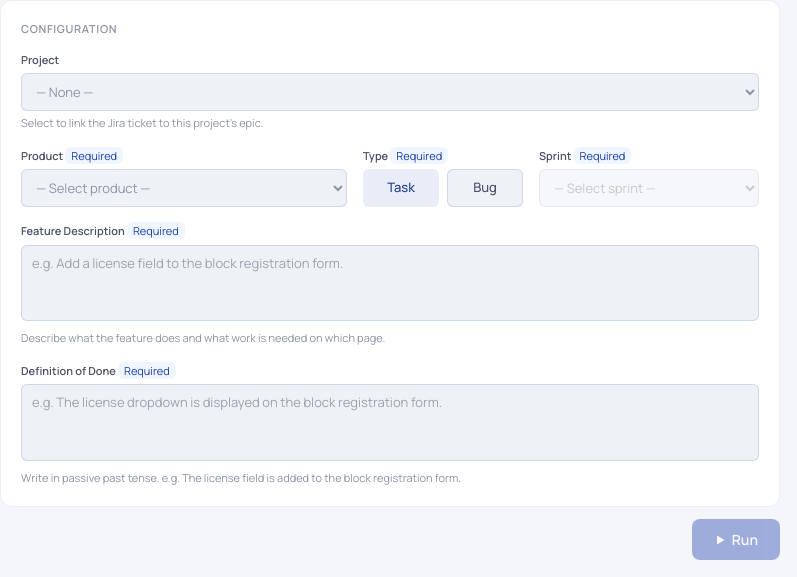
JiraTicketForm › Run 버튼 활성화 조건 › 모든 필수 필드를 채우면 Run 버튼이 활성화된다
This screenshot has width=797, height=577.
Select "ODM" in the dropdown with test id "product-select": (184, 188) [21,169,347,207]
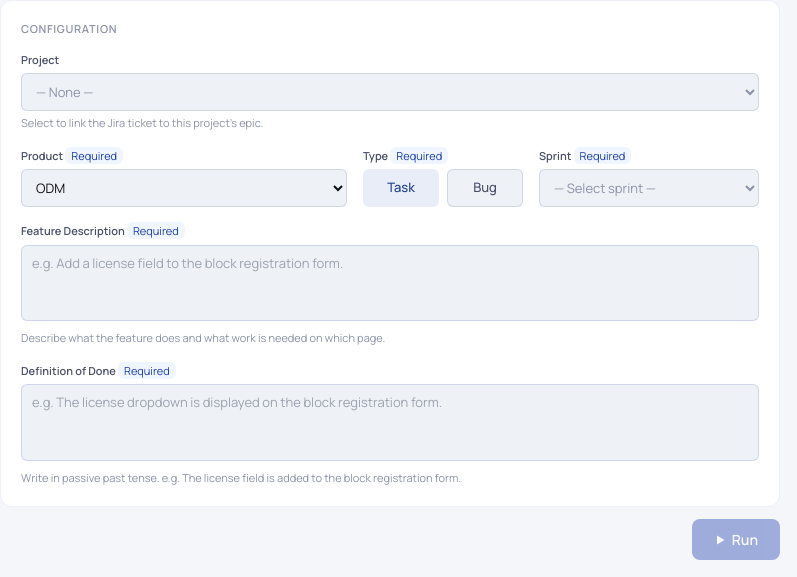
Select "Onco Sprint 79" in the dropdown with test id "sprint-select": (649, 188) [539,169,759,207]
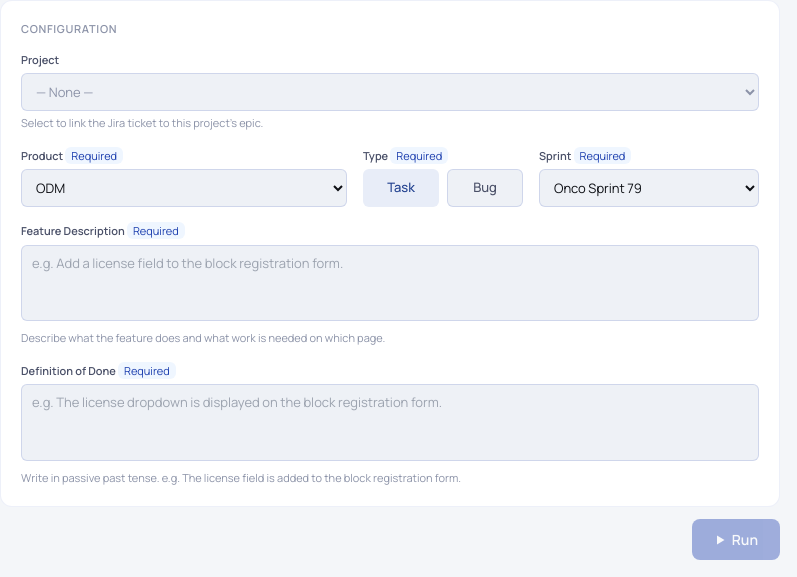
In the text box with test id "feature-input": (390, 283) [21,244,759,321], type "블록 등록 폼에 라이선스 필드를 추가합니다."
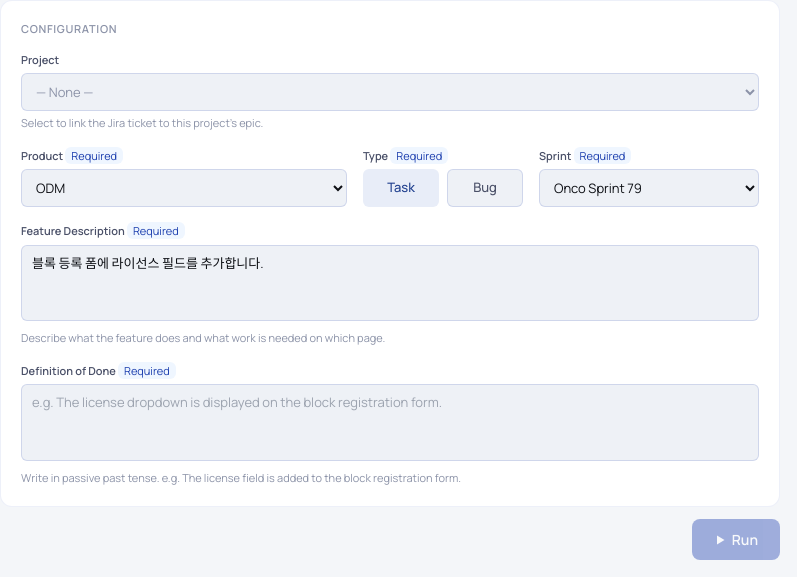
In the text box with test id "dod-input": (390, 422) [21,384,759,460], type "The license field is added."
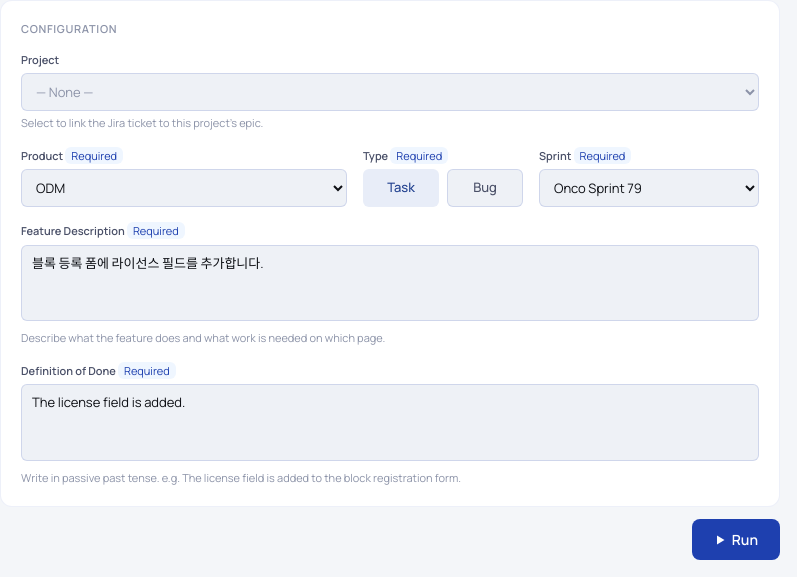
Result: the button with test id "run-btn" is enabled at [692,519,780,560]
